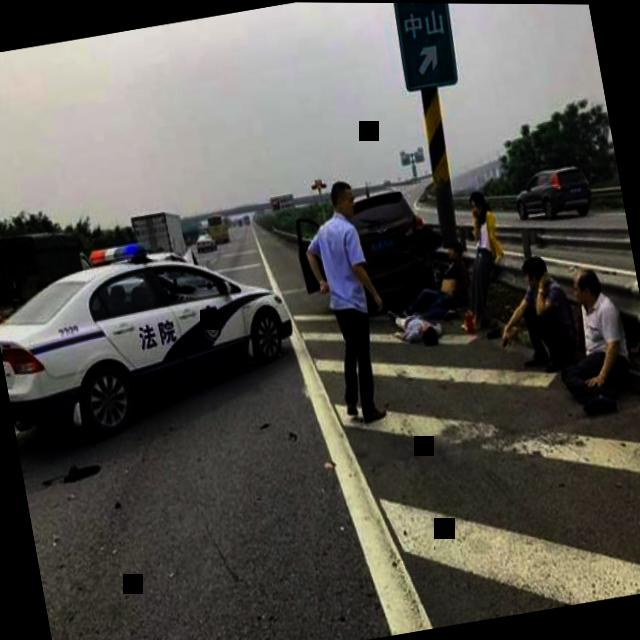Fall-Detected: (379, 289, 444, 354)
